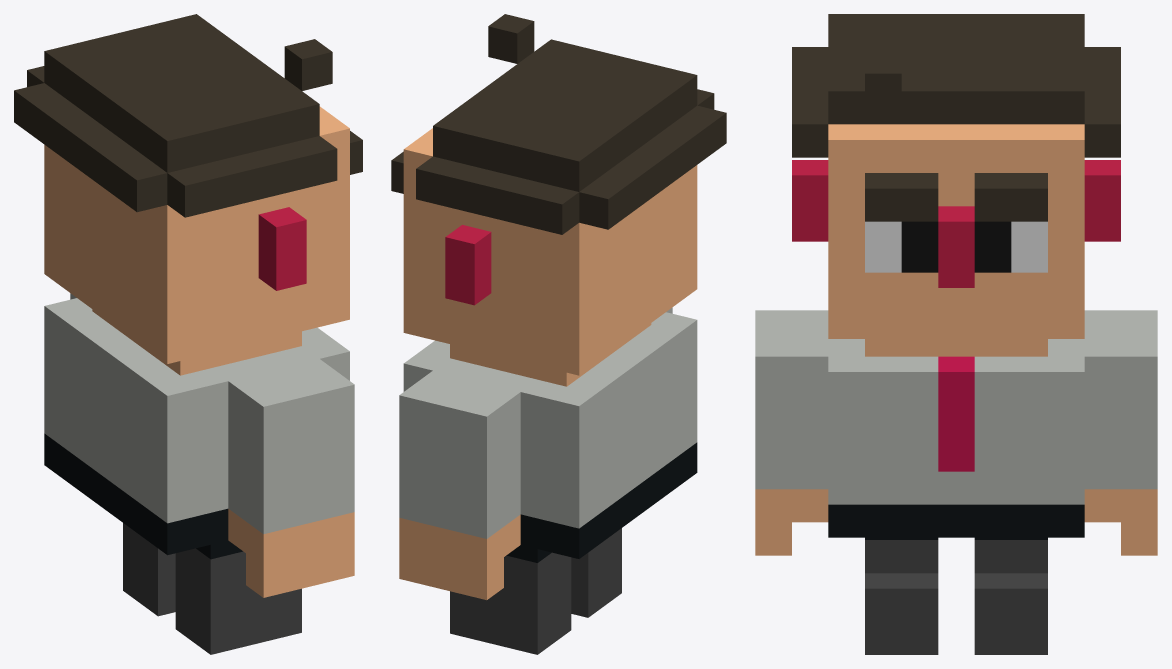
Rendered from human1.obj.
The picture shows the model from 3 angles, left to right: view 1: azimuth 30°, elevation 25°; view 2: azimuth 150°, elevation 25°; view 3: azimuth 270°, elevation 25°; orthographic projection. The views are drawn at different scales.
Bounding box in the file's own units: 0.8 × 1.8 × 1.1.
Materials: 1 (1 with a texture image).
